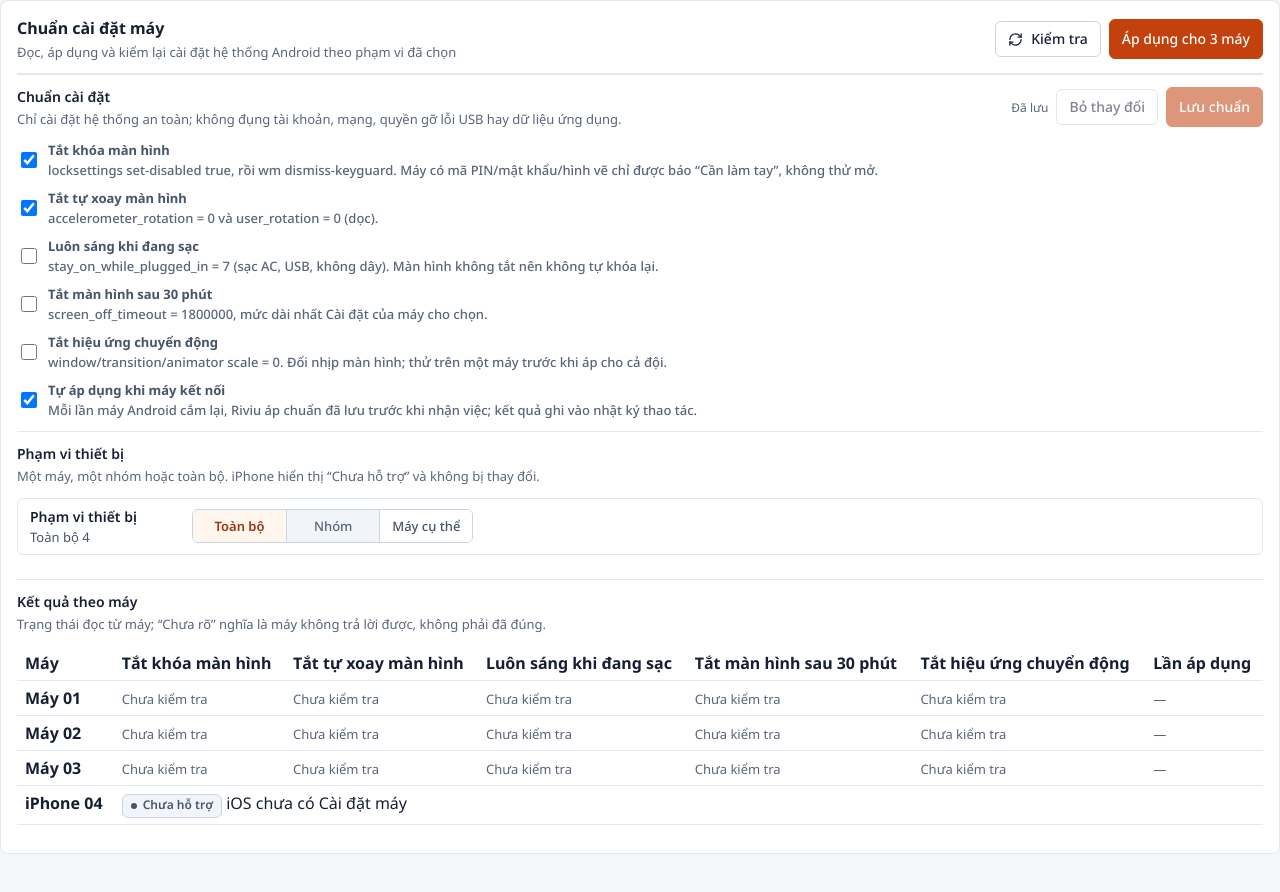
it: DeviceSettingsPage › applies the saved baseline per phone and shows each typed outcome
Click the button "Áp dụng cho 3 máy".
click(1186, 39)  # box [1109,19,1263,59]
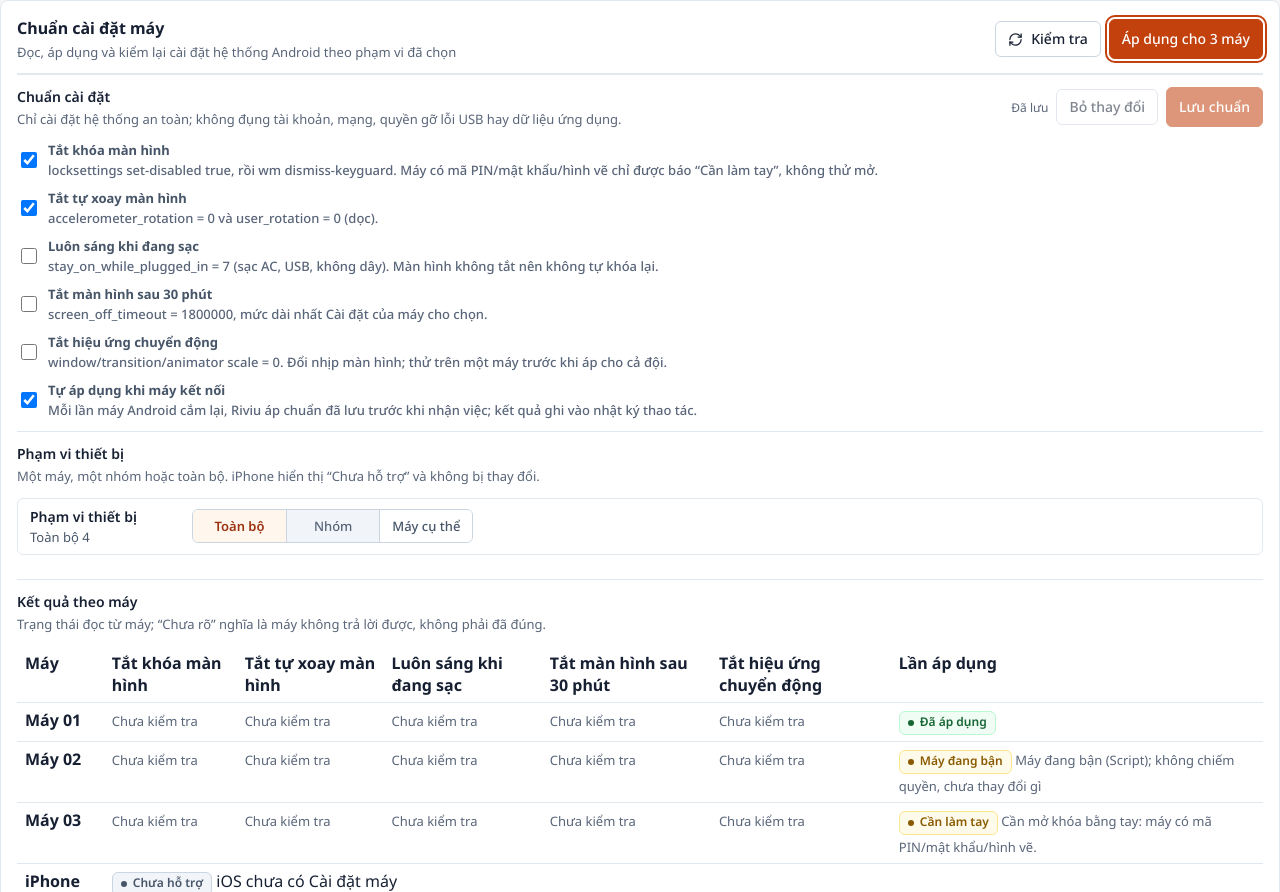
Now the text "Đã áp dụng" is shown, box [899,710,996,734]
Now the text "Máy đang bận" is shown, box [899,750,1012,774]
Now the text "Cần làm tay" is shown, box [899,810,998,834]
